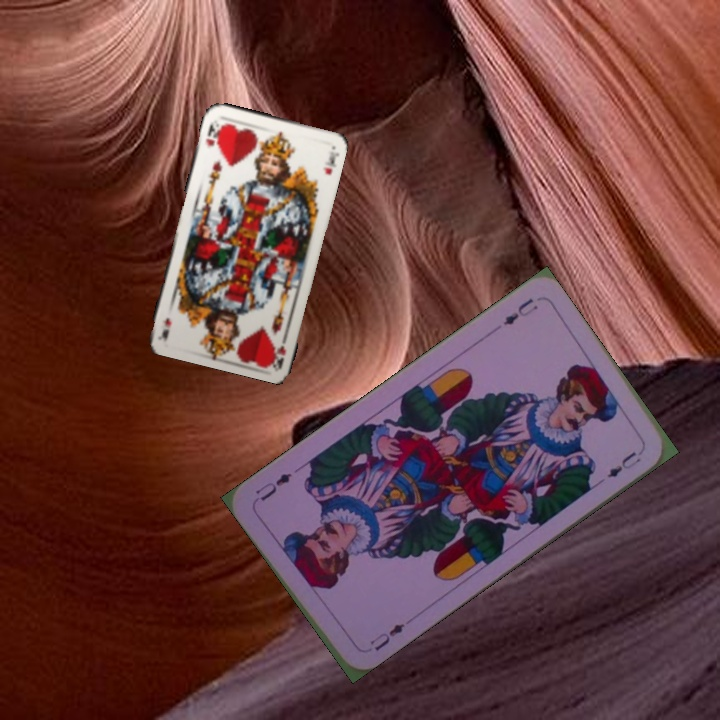EU: (365, 619, 408, 653), (498, 294, 541, 328)
HK: (269, 327, 291, 368), (202, 116, 224, 150)
